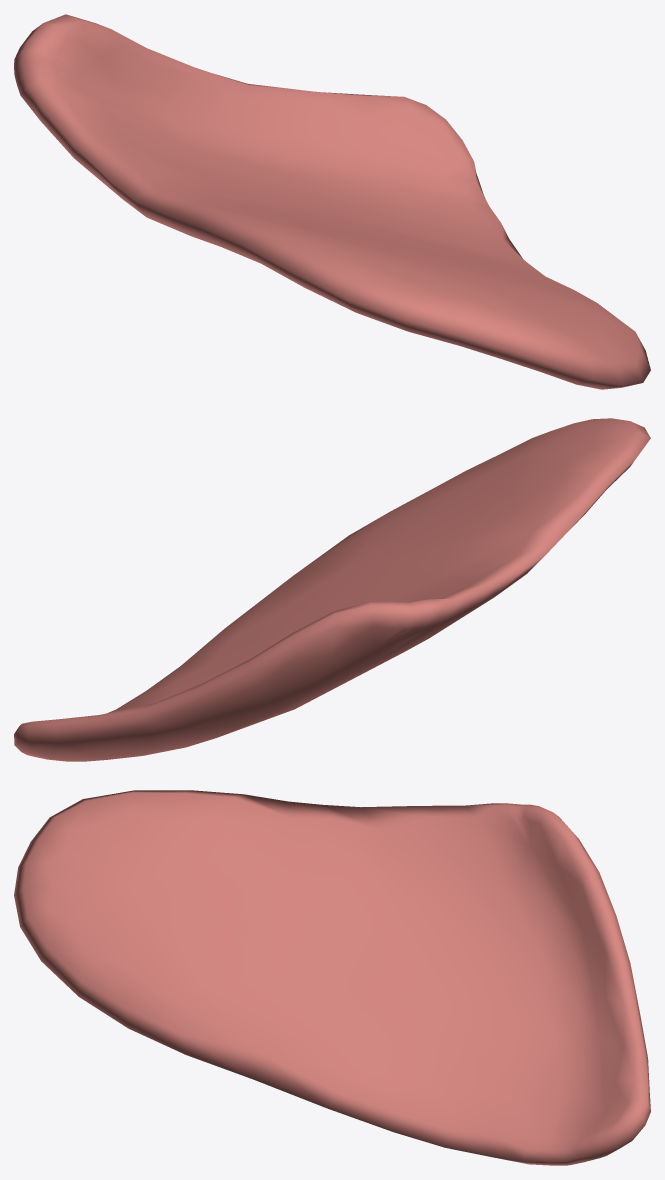
3 views of the same model, one above another, from view 1: azimuth 30°, elevation 25°; view 2: azimuth 150°, elevation 25°; view 3: azimuth 270°, elevation 25° (orthographic). The views are drawn at different scales.
Parts seen in each view (by area): view 1: ZA_ee457ad40cdfd5c6; view 2: ZA_ee457ad40cdfd5c6; view 3: ZA_ee457ad40cdfd5c6.
Boxes of the visible parts, box(x1,y1,x2,y2) form: ZA_ee457ad40cdfd5c6: box(14, 14, 650, 389); ZA_ee457ad40cdfd5c6: box(14, 418, 650, 761); ZA_ee457ad40cdfd5c6: box(14, 790, 650, 1165).
Size of the model in its own units: 0.00705 by 0.004 by 0.0107.
